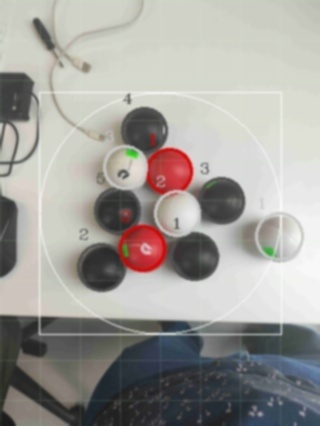Pelota blanca: (47, 0, 145, 75), (0, 71, 41, 174), (252, 212, 305, 264), (169, 230, 219, 283), (196, 174, 246, 224), (119, 105, 169, 152), (153, 190, 201, 238), (100, 142, 147, 190)
Pelota negra: (82, 337, 320, 425), (76, 241, 126, 294), (169, 230, 219, 283), (196, 174, 246, 224), (92, 188, 142, 235)
Pelota roja: (116, 222, 166, 272), (145, 145, 193, 195)
